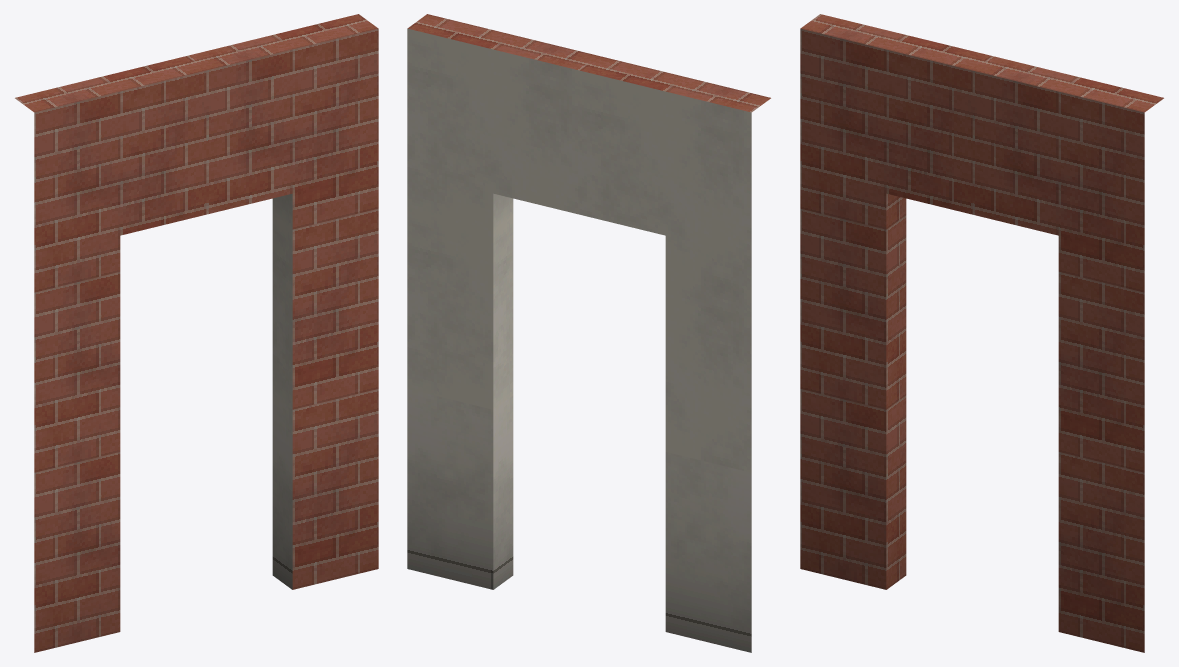
File: wall_doorway_brick.glb
3 views of the same model, side by side, from view 1: azimuth 30°, elevation 25°; view 2: azimuth 150°, elevation 25°; view 3: azimuth 330°, elevation 25° (orthographic).
Visible parts, largest first — view 1: wall_doorway_brick; view 2: wall_doorway_brick; view 3: wall_doorway_brick.
Part boxes in pixels (left/top/right/bottom): wall_doorway_brick: left=15, top=14, right=378, bottom=652; wall_doorway_brick: left=407, top=14, right=770, bottom=652; wall_doorway_brick: left=800, top=14, right=1163, bottom=652.
Bounding box in the file's own units: 2 × 3 × 0.2.
3 materials, 3 textured.
